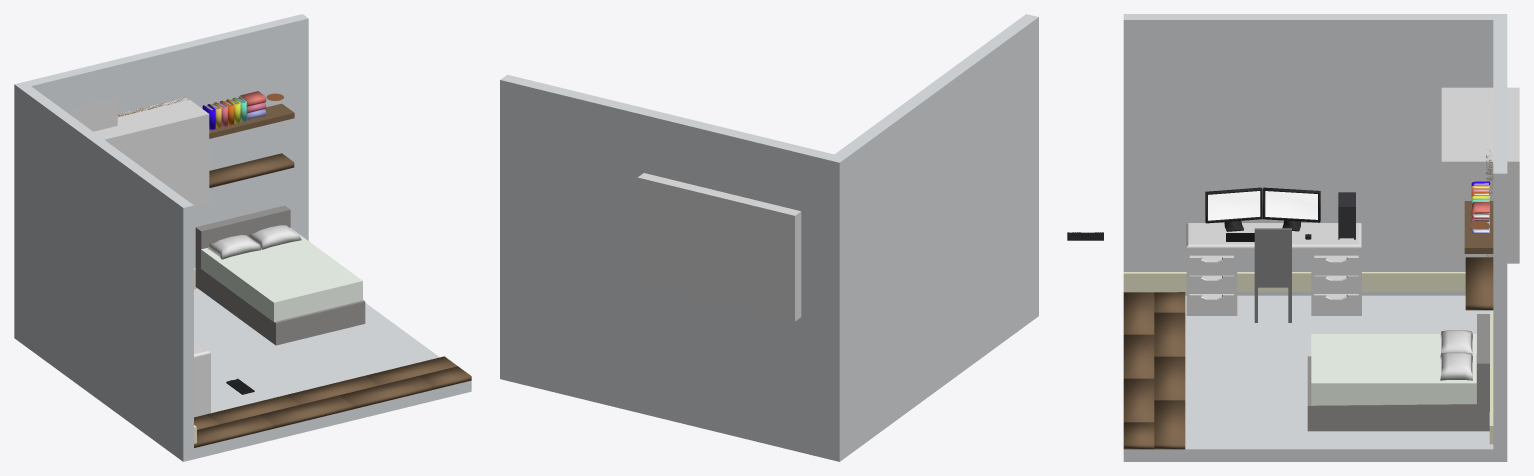
Rendered from room.glb.
The picture shows the model from 3 angles, left to right: view 1: azimuth 30°, elevation 25°; view 2: azimuth 150°, elevation 25°; view 3: azimuth 270°, elevation 25°; orthographic projection. The views are drawn at different scales.
Visible parts, largest first — view 1: Stanza, Materaso, Stanza.005, buco, Letto, MENSOLA 1, scrivania, Plane.001, MENSOLA 2, Cuscino, Cuscino.001; view 2: Stanza, buco; view 3: Stanza, Materaso, Stanza.005, buco, Letto, scrivania, Zoccolo, sedia, MONITOR 1, MONITOR 2, MENSOLA 1, MENSOLA 2 (+9 smaller).
Boxes of the visible parts, x1=… form: Stanza: x1=14, y1=14, x2=471, y2=461; Materaso: x1=201, y1=227, x2=362, y2=321; Stanza.005: x1=194, y1=356, x2=471, y2=447; buco: x1=93, y1=97, x2=209, y2=207; Letto: x1=195, y1=205, x2=365, y2=345; MENSOLA 1: x1=209, y1=153, x2=294, y2=187; scrivania: x1=194, y1=340, x2=210, y2=417; Plane.001: x1=69, y1=97, x2=117, y2=131; MENSOLA 2: x1=209, y1=103, x2=294, y2=138; Cuscino: x1=207, y1=235, x2=261, y2=259; Cuscino.001: x1=248, y1=225, x2=301, y2=249; Stanza: x1=500, y1=14, x2=1038, y2=461; buco: x1=637, y1=173, x2=801, y2=321; Stanza: x1=1123, y1=14, x2=1507, y2=461; Materaso: x1=1311, y1=334, x2=1476, y2=405; Stanza.005: x1=1123, y1=292, x2=1185, y2=449; buco: x1=1441, y1=87, x2=1519, y2=263; Letto: x1=1307, y1=314, x2=1489, y2=431; scrivania: x1=1186, y1=223, x2=1361, y2=315; Zoccolo: x1=1123, y1=272, x2=1493, y2=444; sedia: x1=1254, y1=228, x2=1291, y2=322; MONITOR 1: x1=1205, y1=187, x2=1262, y2=231; MONITOR 2: x1=1263, y1=187, x2=1320, y2=231; MENSOLA 1: x1=1465, y1=257, x2=1493, y2=310; MENSOLA 2: x1=1464, y1=201, x2=1493, y2=253.
Bounding box in the file's own units: 9.71 × 8.17 × 11.61.
